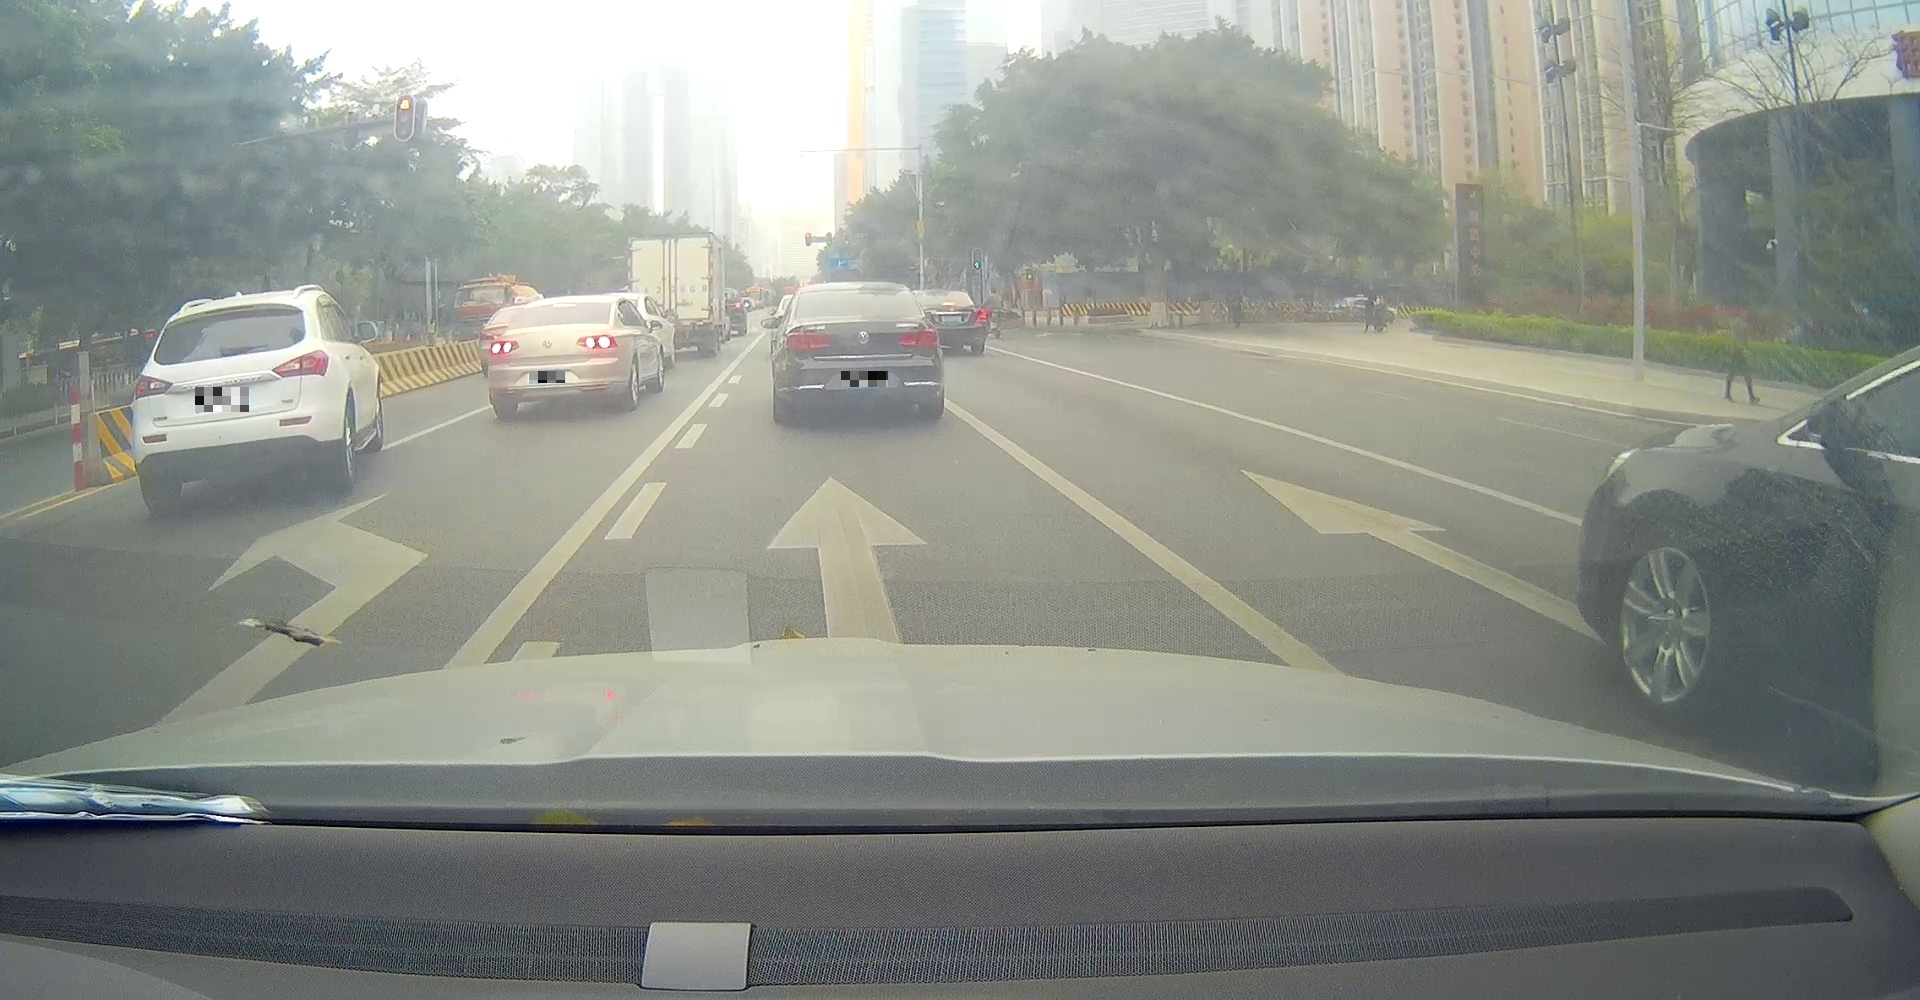L_light: (133, 374, 173, 400), (785, 332, 836, 352), (491, 340, 521, 355)
R_light: (272, 349, 330, 378), (897, 327, 940, 346), (577, 334, 618, 350)
T_light: (206, 305, 254, 313), (850, 288, 869, 292), (552, 305, 577, 307)
day-brake: (488, 294, 626, 419)
day-no: (131, 284, 342, 516), (780, 282, 943, 423)
plate_1: (196, 387, 249, 412)
plate_2: (530, 371, 565, 383)
plate_3: (841, 371, 888, 387)
